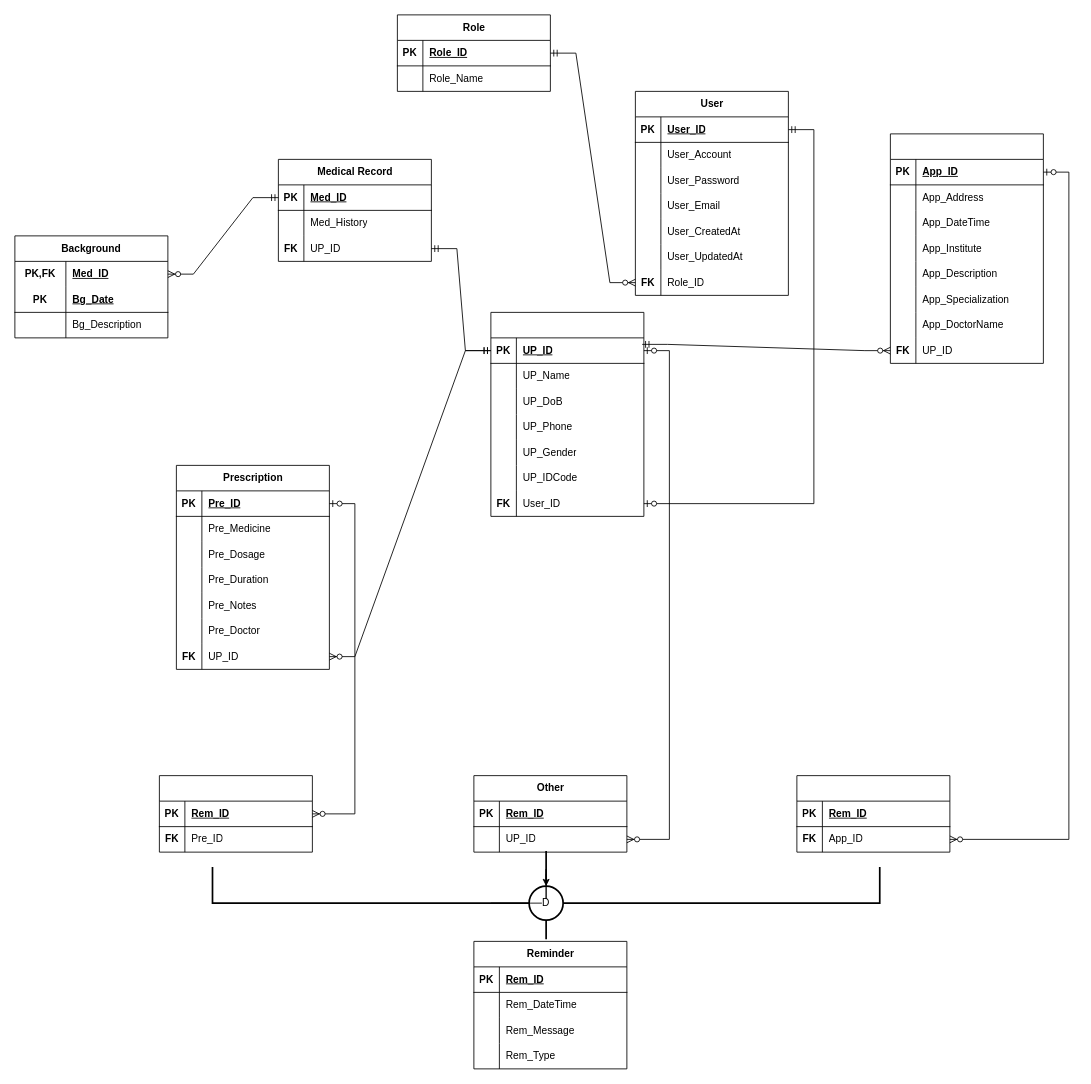
Image size: 1091x1084. Some labels were removed from this diagram. Here are the shapes that lost their labels. From the top down, the box of each, then its label:
(890, 133, 1043, 363): Appointment
(490, 312, 644, 516): User Profile
(159, 775, 312, 852): TakeMedicine
(796, 775, 950, 852): RemindAppointment
